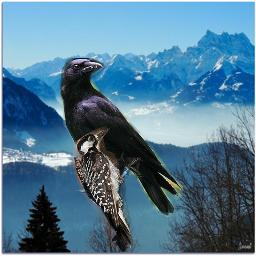Crow: (60, 58, 183, 217)
Woodpecker: (68, 124, 151, 252)
